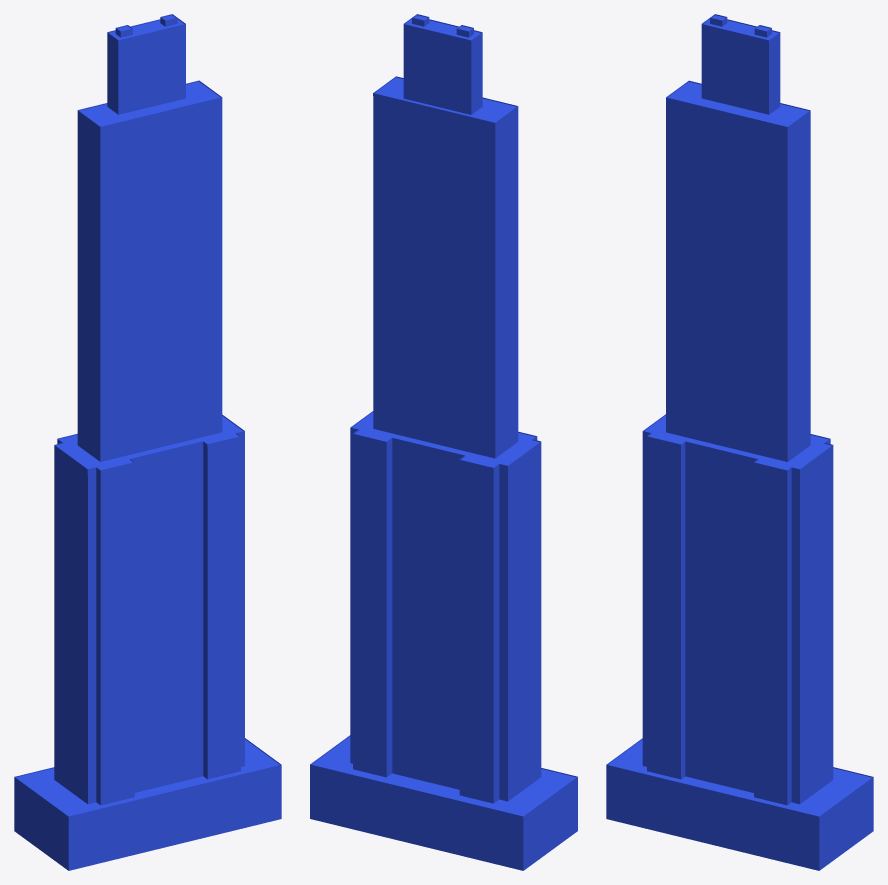
The model's file is Building_04_3.FBX.
3 renders of one model, left to right at view 1: azimuth 30°, elevation 25°; view 2: azimuth 150°, elevation 25°; view 3: azimuth 330°, elevation 25°, orthographic.
Visible parts, largest first — view 1: Building_04_3; view 2: Building_04_3; view 3: Building_04_3.
Part boxes in pixels (x1=…): Building_04_3: x1=14, y1=14, x2=281, y2=870; Building_04_3: x1=310, y1=14, x2=577, y2=870; Building_04_3: x1=606, y1=14, x2=873, y2=870.
Size of the model in its own units: 126696 by 455686 by 56003.
